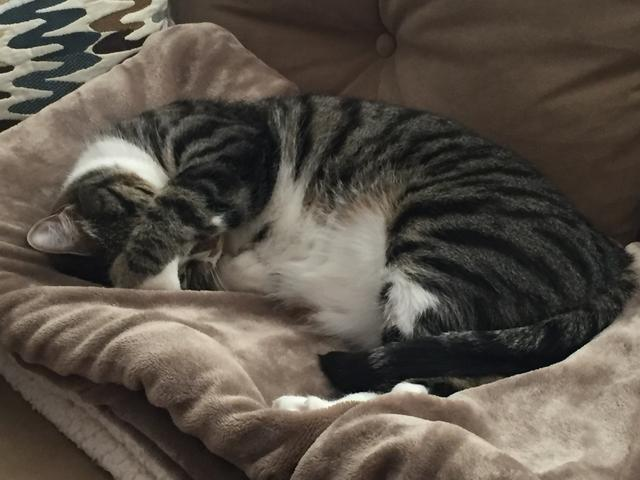playdoh: (22, 95, 633, 415)
